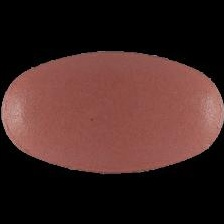65649-303: (0, 0, 224, 224)
